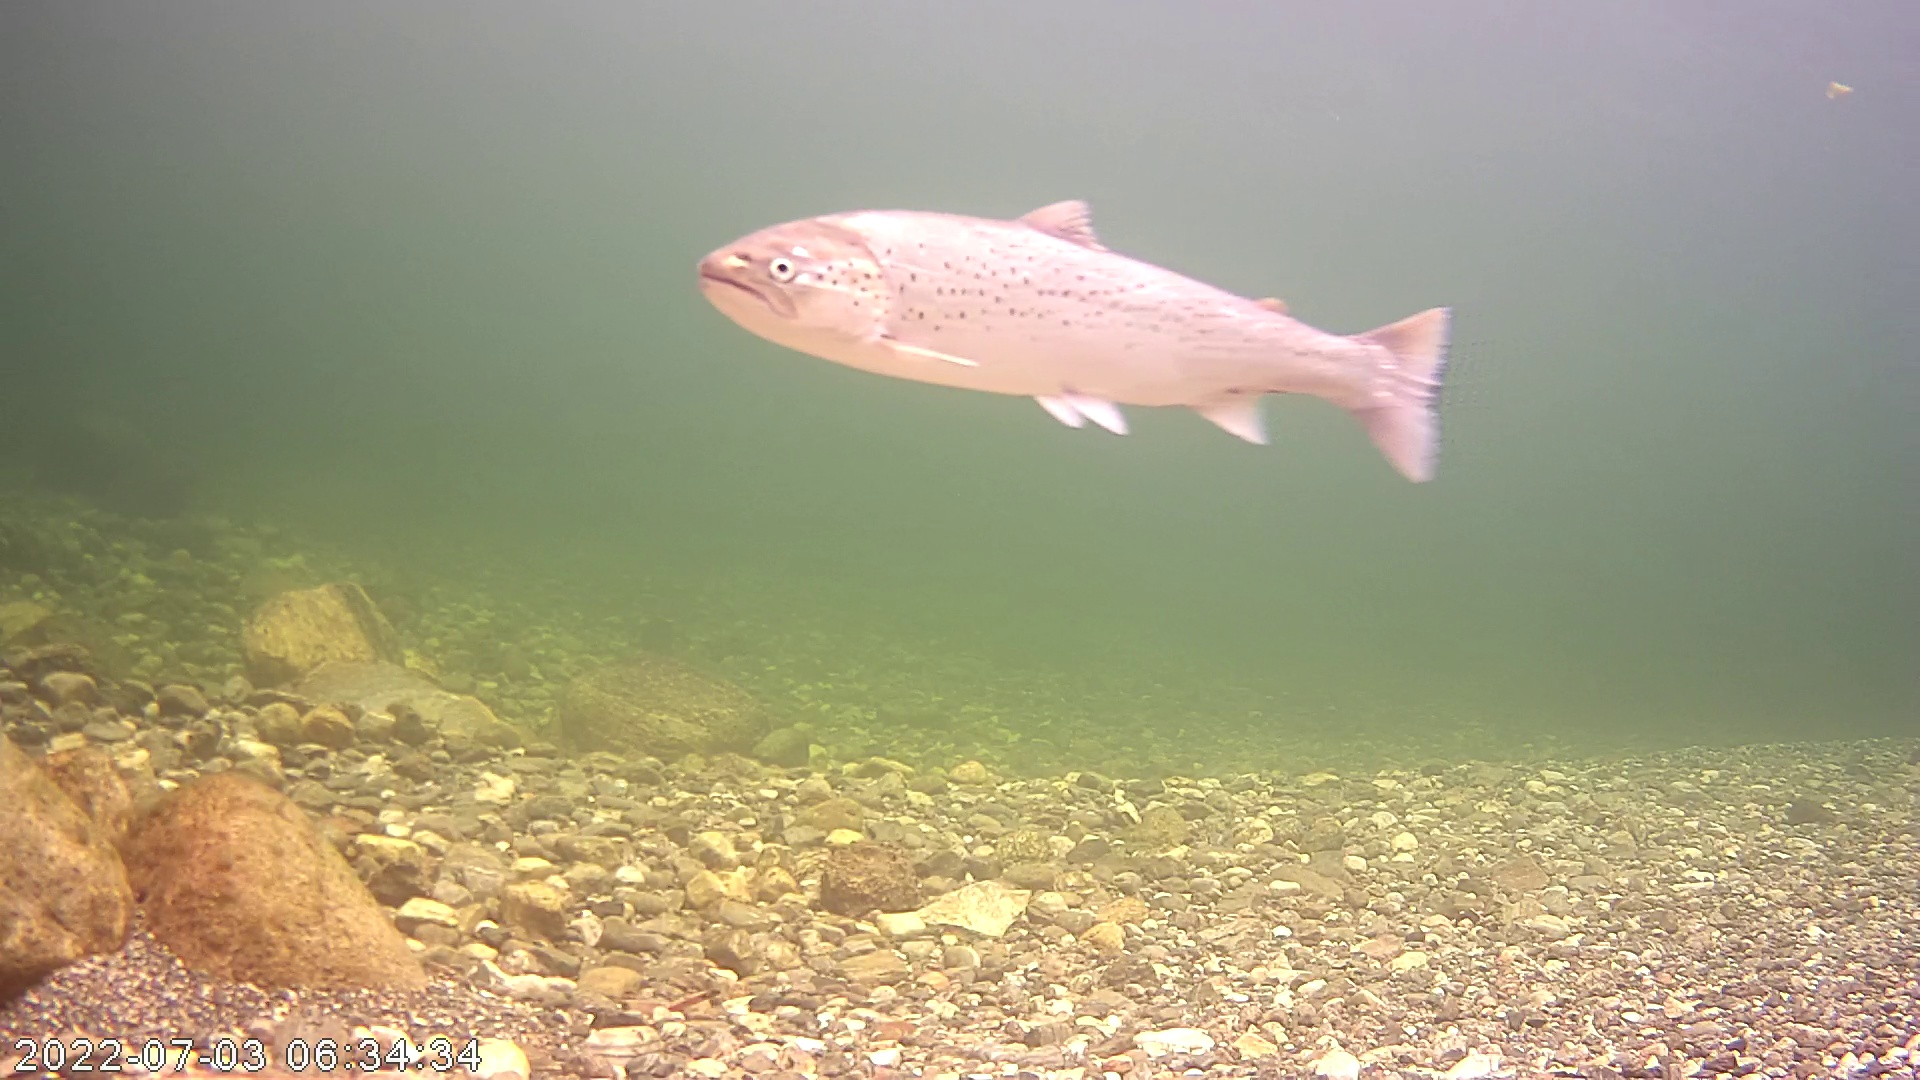salmon: (694, 196, 1453, 488)
